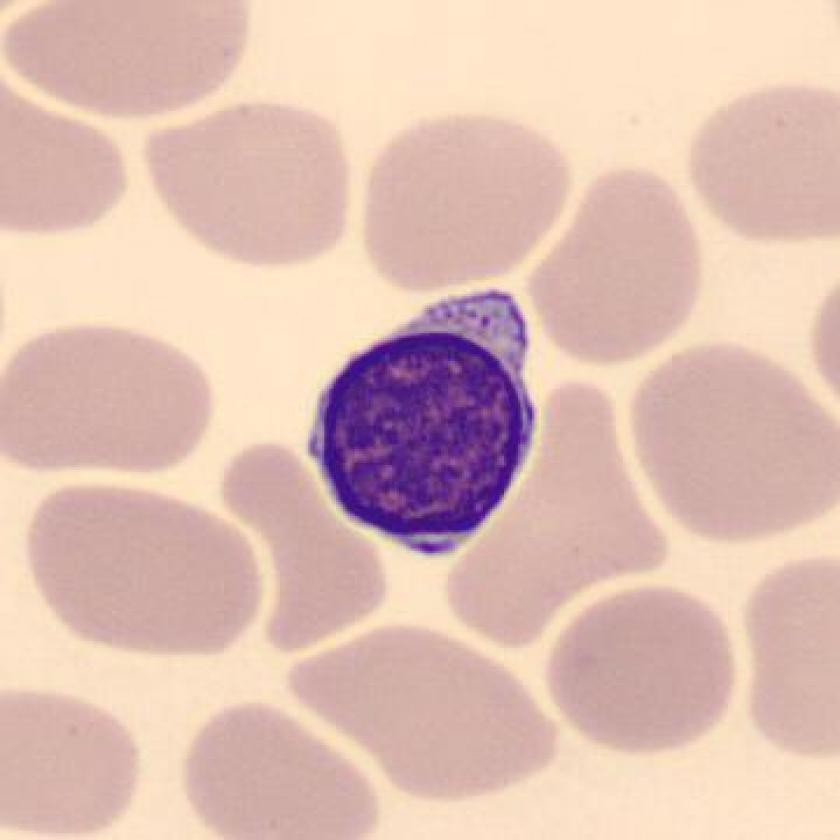lymphocyte: (286, 277, 559, 571)
